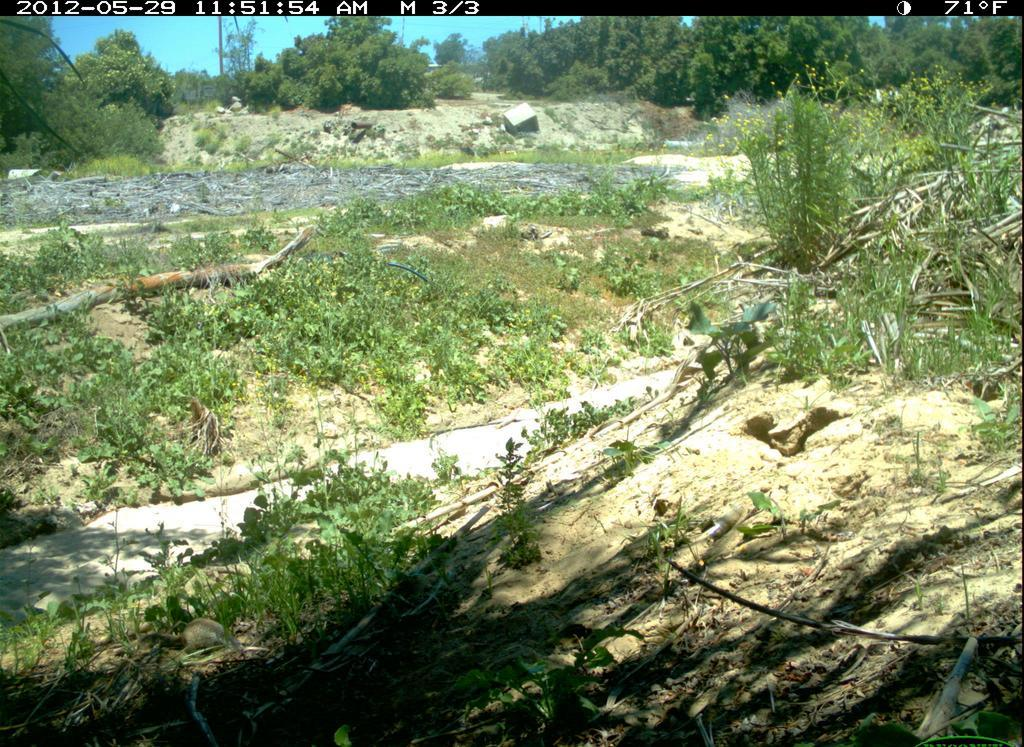squirrel: (150, 611, 241, 660)
